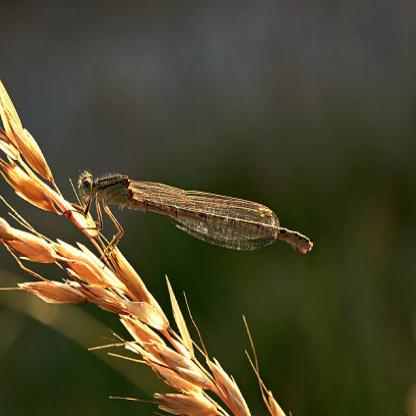sawfly: (56, 167, 315, 278)
